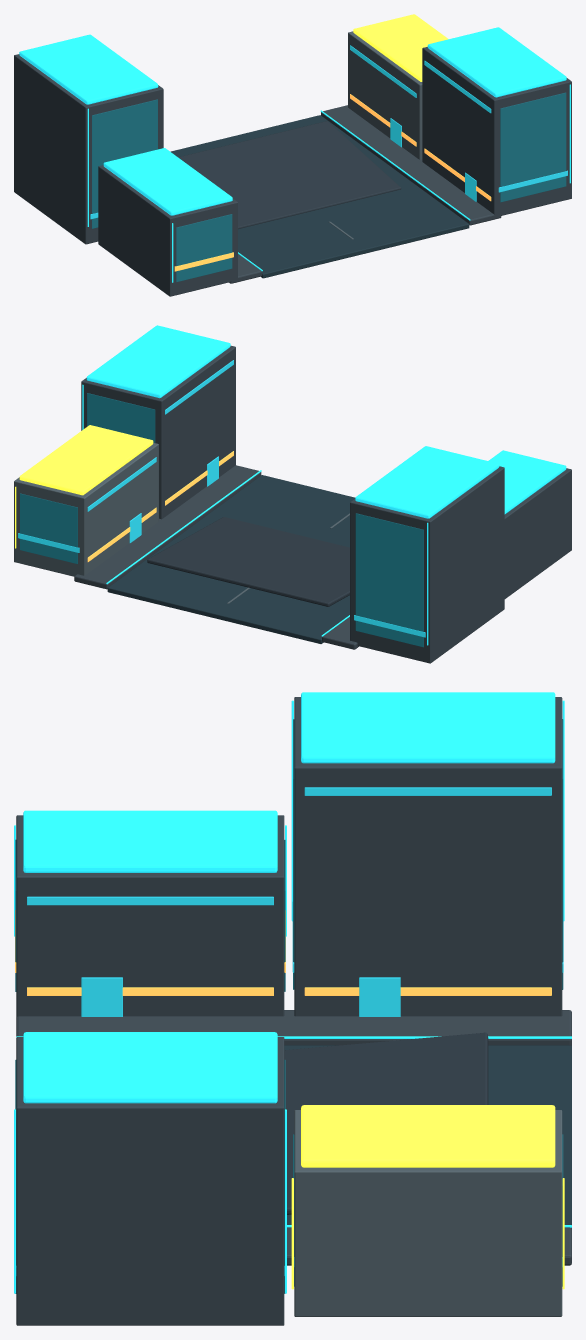
Rendered from ramp_up_lod2.glb.
3 views of the same model, one above another, from view 1: azimuth 30°, elevation 25°; view 2: azimuth 150°, elevation 25°; view 3: azimuth 270°, elevation 25° (orthographic). The views are drawn at different scales.
Parts seen in each view (by area): view 1: ND_Batch_ND_CityConcrete, ND_Batch_ND_CityCyanMuted, ND_Batch_ND_WetAsphalt, ND_Batch_ND_RooftopMetal, ND_Batch_ND_DarkGlass, ND_Batch_ND_CityConcreteLight, ND_Batch_ND_RoadEdge, ND_Batch_ND_PackageGold, ND_Batch_ND_NeonGlass, ND_Batch_ND_WarmWindow; view 2: ND_Batch_ND_CityConcrete, ND_Batch_ND_WetAsphalt, ND_Batch_ND_CityCyanMuted, ND_Batch_ND_DarkGlass, ND_Batch_ND_RooftopMetal, ND_Batch_ND_CityConcreteLight, ND_Batch_ND_RoadEdge, ND_Batch_ND_PackageGold, ND_Batch_ND_NeonGlass, ND_Batch_ND_WarmWindow; view 3: ND_Batch_ND_CityConcrete, ND_Batch_ND_CityCyanMuted, ND_Batch_ND_CityConcreteLight, ND_Batch_ND_PackageGold, ND_Batch_ND_RooftopMetal, ND_Batch_ND_RoadEdge, ND_Batch_ND_NeonGlass, ND_Batch_ND_WetAsphalt, ND_Batch_ND_WarmWindow, ND_Batch_ND_DarkGlass.
Boxes of the visible parts, x1=… form: ND_Batch_ND_CityConcrete: x1=14, y1=47, x2=571, y2=296; ND_Batch_ND_CityCyanMuted: x1=19, y1=27, x2=570, y2=282; ND_Batch_ND_WetAsphalt: x1=170, y1=115, x2=469, y2=278; ND_Batch_ND_RooftopMetal: x1=178, y1=121, x2=401, y2=229; ND_Batch_ND_DarkGlass: x1=92, y1=92, x2=566, y2=282; ND_Batch_ND_CityConcreteLight: x1=329, y1=31, x2=422, y2=239; ND_Batch_ND_RoadEdge: x1=229, y1=105, x2=501, y2=283; ND_Batch_ND_PackageGold: x1=353, y1=14, x2=448, y2=81; ND_Batch_ND_NeonGlass: x1=90, y1=45, x2=567, y2=219; ND_Batch_ND_WarmWindow: x1=174, y1=94, x2=491, y2=271; ND_Batch_ND_CityConcrete: x1=81, y1=345, x2=571, y2=663; ND_Batch_ND_WetAsphalt: x1=107, y1=475, x2=355, y2=643; ND_Batch_ND_CityCyanMuted: x1=82, y1=325, x2=566, y2=645; ND_Batch_ND_DarkGlass: x1=20, y1=393, x2=423, y2=647; ND_Batch_ND_RooftopMetal: x1=147, y1=517, x2=349, y2=606; ND_Batch_ND_CityConcreteLight: x1=14, y1=442, x2=349, y2=603; ND_Batch_ND_RoadEdge: x1=74, y1=465, x2=358, y2=649; ND_Batch_ND_PackageGold: x1=15, y1=425, x2=153, y2=548; ND_Batch_ND_NeonGlass: x1=18, y1=360, x2=425, y2=637; ND_Batch_ND_WarmWindow: x1=87, y1=451, x2=233, y2=561; ND_Batch_ND_CityConcrete: x1=16, y1=697, x2=562, y2=1325; ND_Batch_ND_CityCyanMuted: x1=14, y1=692, x2=571, y2=1293; ND_Batch_ND_CityConcreteLight: x1=294, y1=1110, x2=562, y2=1316; ND_Batch_ND_PackageGold: x1=291, y1=1105, x2=564, y2=1289; ND_Batch_ND_RooftopMetal: x1=284, y1=1032, x2=488, y2=1214; ND_Batch_ND_RoadEdge: x1=16, y1=1010, x2=571, y2=1265; ND_Batch_ND_NeonGlass: x1=16, y1=787, x2=563, y2=1275; ND_Batch_ND_WetAsphalt: x1=284, y1=1045, x2=571, y2=1228; ND_Batch_ND_WarmWindow: x1=15, y1=910, x2=551, y2=995; ND_Batch_ND_DarkGlass: x1=15, y1=719, x2=563, y2=1293.
Bounding box in the file's own units: 31.9 × 10.8 × 20.09.
